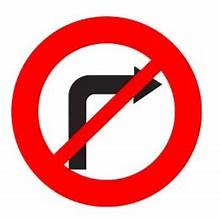No_turn_right: (8, 15, 203, 209)
